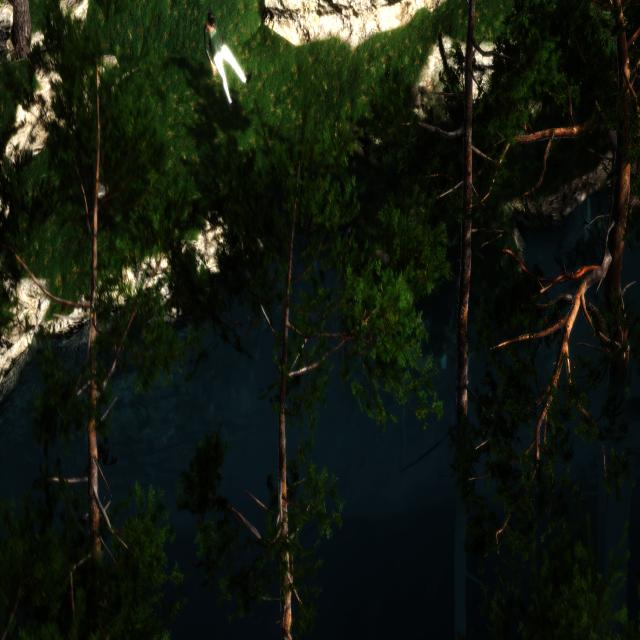Human: (200, 6, 253, 116)
